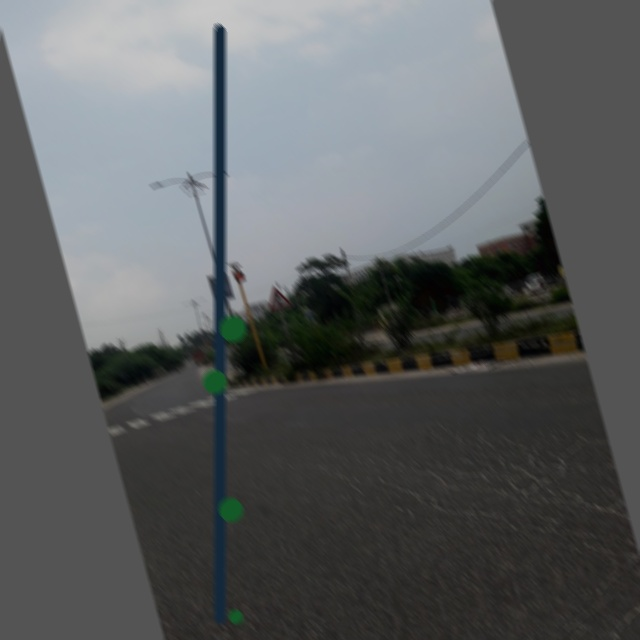Gap_in_Median: (259, 276, 296, 317)
